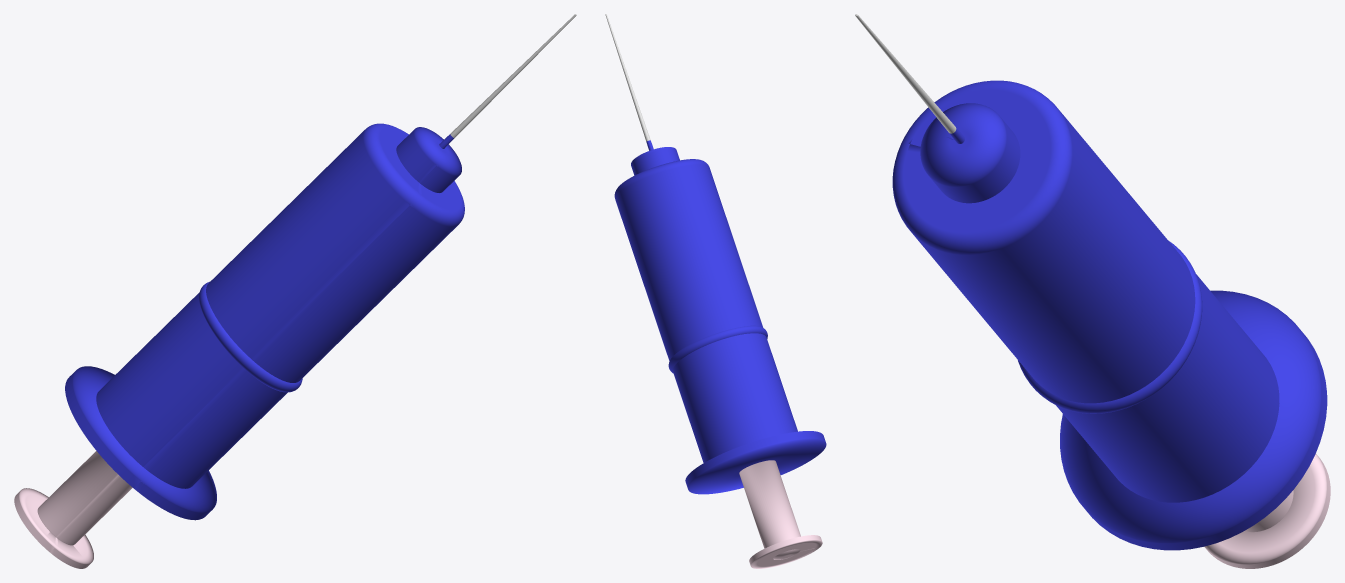
File: syringe.fbx
3 views of the same model, side by side, from view 1: azimuth 30°, elevation 25°; view 2: azimuth 150°, elevation 25°; view 3: azimuth 270°, elevation 25° (orthographic). The views are drawn at different scales.
Visible parts, largest first — view 1: emoji_syringe_copy, emoji_syringe_copy.002, emoji_syringe_copy.001; view 2: emoji_syringe_copy, emoji_syringe_copy.002, emoji_syringe_copy.001; view 3: emoji_syringe_copy, emoji_syringe_copy.002, emoji_syringe_copy.001.
Boxes of the visible parts, <box> form: emoji_syringe_copy: <box>65,123,464,520</box>; emoji_syringe_copy.002: <box>14,451,132,568</box>; emoji_syringe_copy.001: <box>450,14,576,137</box>; emoji_syringe_copy: <box>614,140,826,494</box>; emoji_syringe_copy.002: <box>739,460,822,568</box>; emoji_syringe_copy.001: <box>605,14,650,141</box>; emoji_syringe_copy: <box>892,80,1327,550</box>; emoji_syringe_copy.002: <box>1204,453,1330,568</box>; emoji_syringe_copy.001: <box>855,14,956,133</box>.
Bounding box in the file's own units: 372 × 472 × 254.
